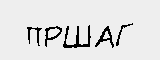А: (93, 24, 117, 49)
Г: (114, 21, 133, 49)
П: (25, 25, 42, 49)
Р: (44, 24, 62, 52)
Ш: (63, 24, 91, 51)
